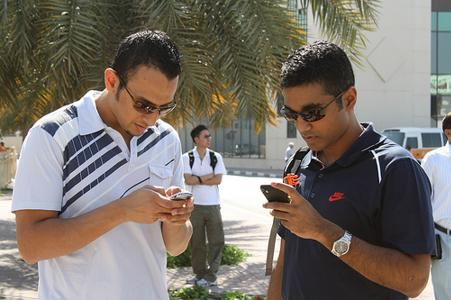person: (13, 30, 197, 300)
